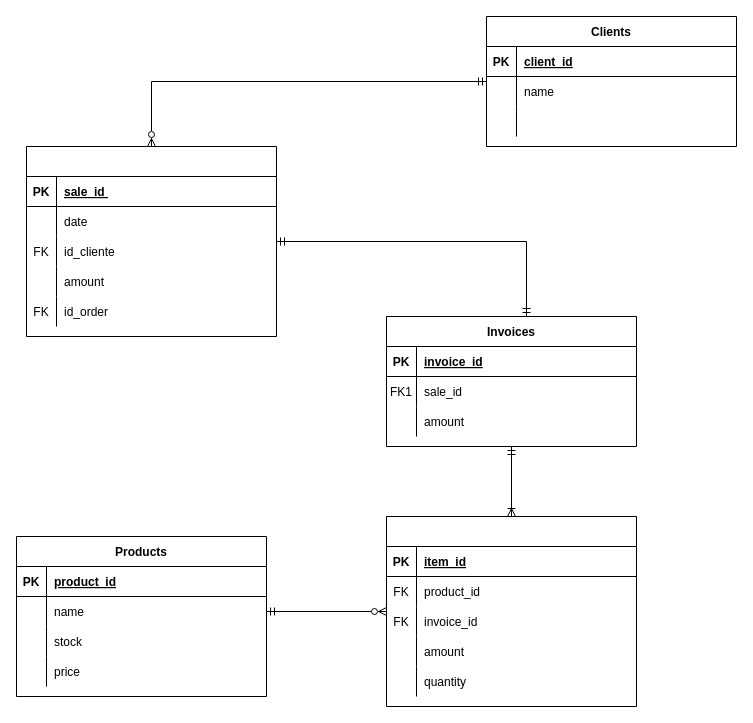
This 753x723 diagram has some shape labels left out. The box of each missing label's shape, as (x1, y1, x2, y2) in pixels:
items: (386, 516, 636, 706)
Sales: (26, 146, 276, 336)
